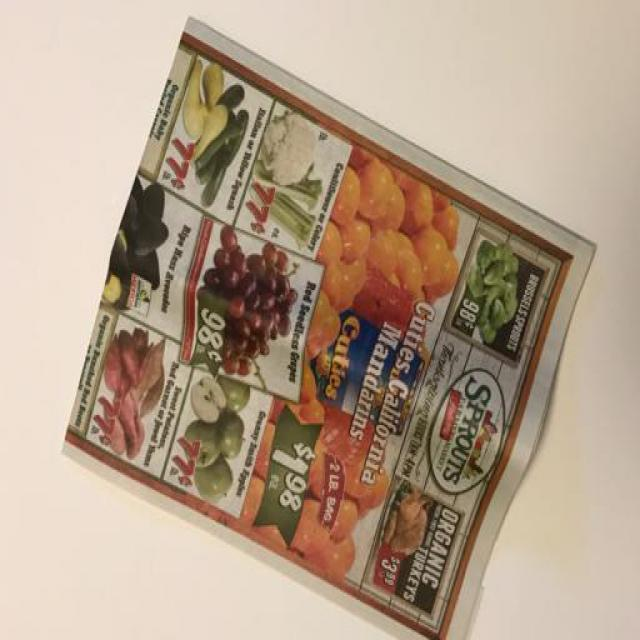paper: (60, 19, 594, 640)
